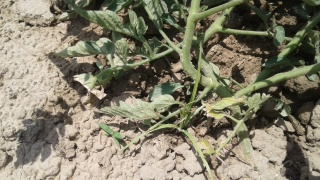tomato diseased leaf: (75, 72, 111, 97)
tomato plant: (120, 82, 265, 138), (68, 1, 182, 63)
